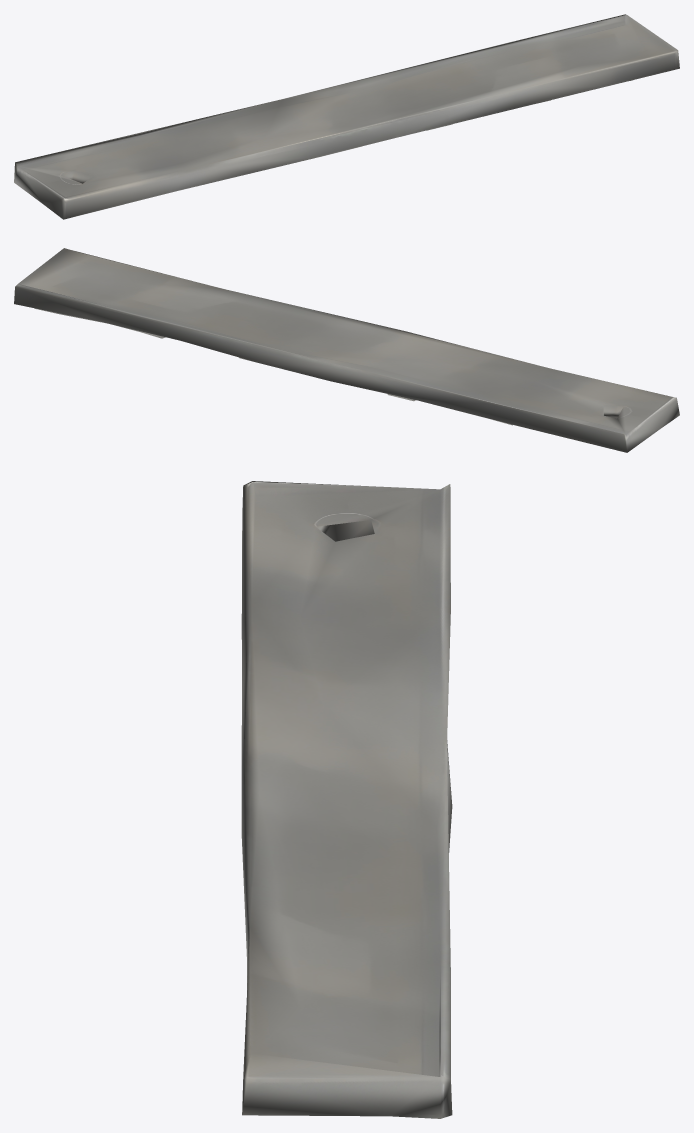
The model's file is ENV_SMALL_PROPS_RULER_v001_RAW.glb.glb.
3 renders of one model, top to bottom at view 1: azimuth 30°, elevation 25°; view 2: azimuth 150°, elevation 25°; view 3: azimuth 270°, elevation 25°, orthographic. The views are drawn at different scales.
Parts seen in each view (by area): view 1: tripo_node_ece66f2a-b2ab-482c-a80a-eb9f2c101671; view 2: tripo_node_ece66f2a-b2ab-482c-a80a-eb9f2c101671; view 3: tripo_node_ece66f2a-b2ab-482c-a80a-eb9f2c101671.
Boxes of the visible parts, x1,y1,x2,y2 form: tripo_node_ece66f2a-b2ab-482c-a80a-eb9f2c101671: (14,14,679,219); tripo_node_ece66f2a-b2ab-482c-a80a-eb9f2c101671: (14,248,679,452); tripo_node_ece66f2a-b2ab-482c-a80a-eb9f2c101671: (241,481,452,1118).
Bounding box in the file's own units: 0.9777 × 0.0391 × 0.145.
1 material, 1 textured.
